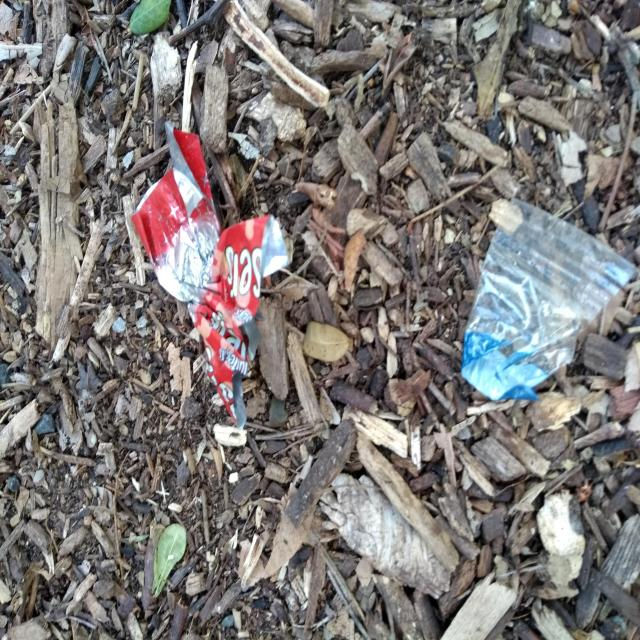litter: (131, 120, 289, 431), (461, 197, 637, 401)
